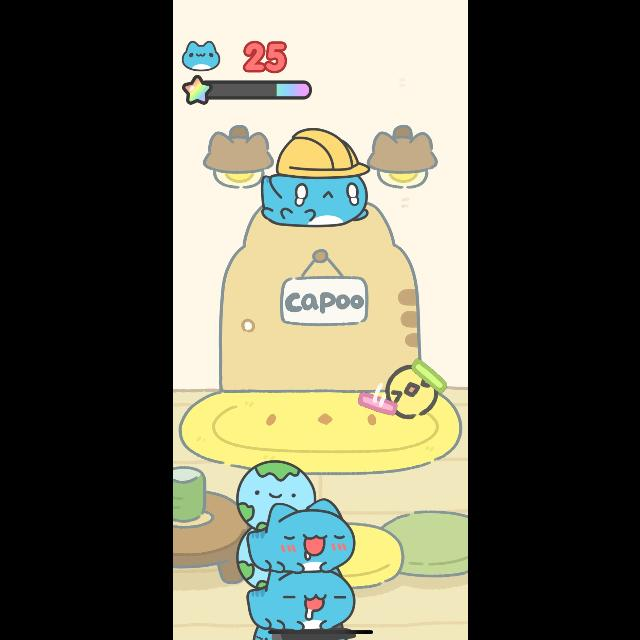capoo: (238, 465, 356, 573), (262, 128, 368, 226), (240, 578, 362, 630)
